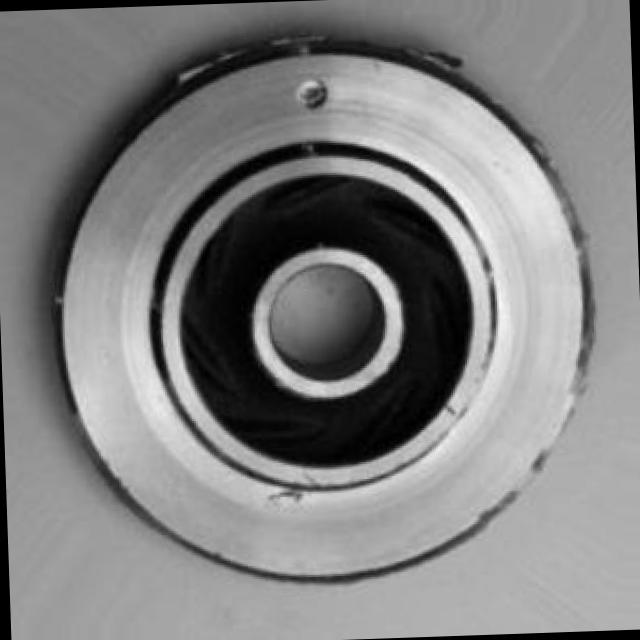Defect: (295, 78, 332, 112)
